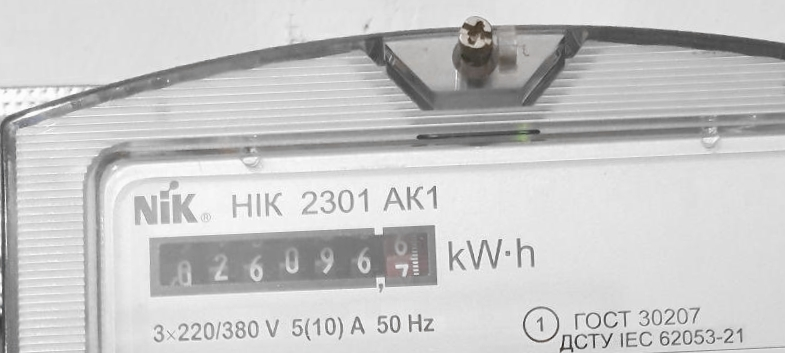0: (281, 242, 302, 278), (173, 255, 195, 288)
2: (209, 249, 231, 285)
6: (246, 250, 266, 285), (354, 242, 373, 276), (390, 230, 410, 258)
7: (393, 259, 411, 281)
9: (317, 244, 337, 276)
screen: (138, 215, 446, 309)
